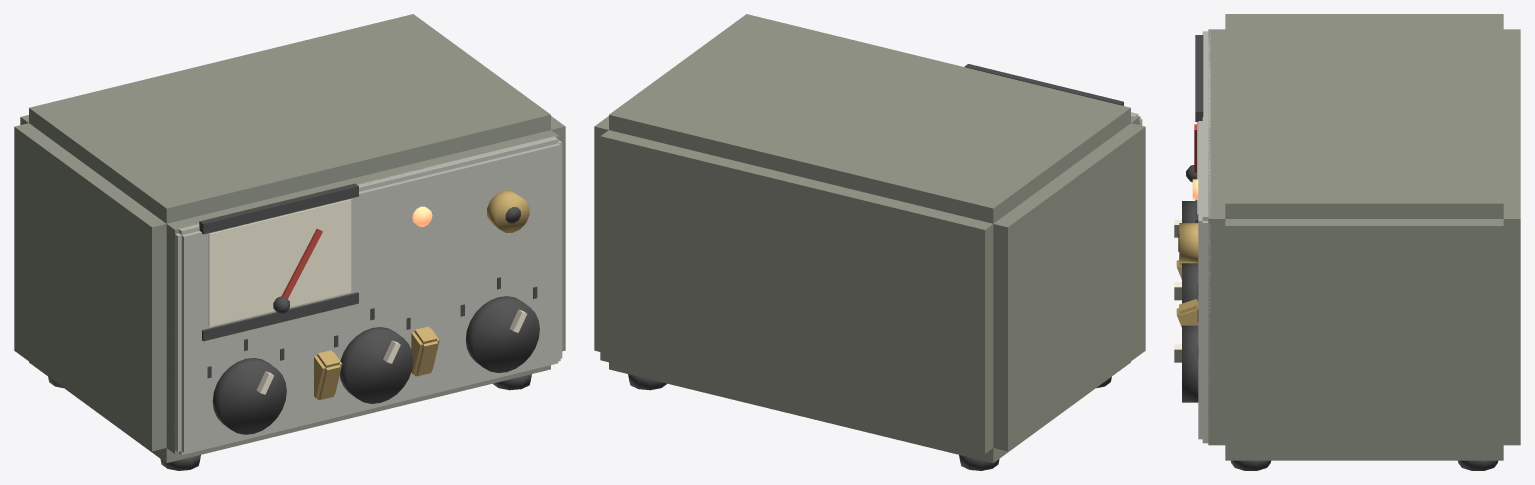
File: signal_generator.glb
The picture shows the model from 3 angles, left to right: view 1: azimuth 30°, elevation 25°; view 2: azimuth 150°, elevation 25°; view 3: azimuth 270°, elevation 25°; orthographic projection.
Parts seen in each view (by area): view 1: Body, Panel, MeterFace, Dial2, Dial0, Dial1, MeterRimT, MeterRimB, BNC, Switch0, Switch1, MeterNeedle; view 2: Body, MeterRimT; view 3: Body, Panel, Dial2, BNC, MeterRimT, Dial1, Switch1, Foot1-1, Foot11.
Boxes of the visible parts, bbox=[...] form: Body: bbox=[14, 14, 565, 462]; Panel: bbox=[174, 136, 562, 454]; MeterFace: bbox=[208, 199, 351, 326]; Dial2: bbox=[465, 296, 539, 372]; Dial0: bbox=[212, 358, 286, 434]; Dial1: bbox=[340, 327, 413, 403]; MeterRimT: bbox=[199, 183, 358, 234]; MeterRimB: bbox=[202, 292, 358, 341]; BNC: bbox=[487, 190, 529, 232]; Switch0: bbox=[314, 350, 342, 400]; Switch1: bbox=[411, 326, 439, 376]; MeterNeedle: bbox=[282, 229, 322, 298]; Body: bbox=[594, 14, 1145, 462]; MeterRimT: bbox=[964, 64, 1123, 105]; Body: bbox=[1208, 14, 1520, 460]; Panel: bbox=[1198, 31, 1210, 443]; Dial2: bbox=[1182, 325, 1198, 402]; BNC: bbox=[1179, 223, 1198, 262]; MeterRimT: bbox=[1195, 35, 1203, 121]; Dial1: bbox=[1182, 263, 1198, 303]; Switch1: bbox=[1176, 299, 1198, 327]; Foot1-1: bbox=[1231, 460, 1270, 470]; Foot11: bbox=[1458, 460, 1498, 470].
Size of the model in its own units: 0.85 by 0.53 by 0.61.
